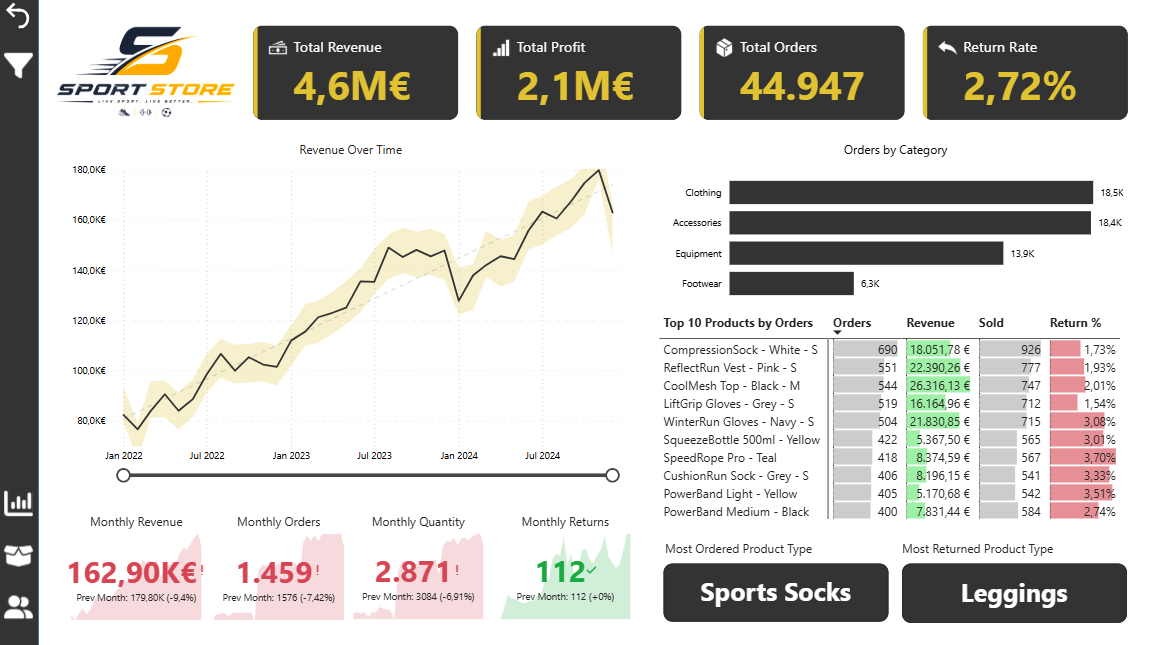

What the dashboard file says about the page in this screenshot:
{"tool":"powerbi","page":{"name":"Overview","canvas":[1280,720],"ordinal":0},"visuals":[{"type":"shape","box":[0,0,44.3,720],"z":0},{"type":"image","box":[43.6,7.8,238.2,144.8],"z":1000},{"type":"lineChart","title":"Revenue Over Time","fields":{"Y":["DAX Measures.Total Revenue"],"Category":["Dim_Calendar.Start of Month"]},"box":[75.7,158.6,631.4,382.9],"z":2000},{"type":"textbox","box":[998,596.3,227.5,32.5],"z":3000},{"type":"textbox","box":[734.3,596.3,227.5,32.5],"z":4000},{"type":"cardVisual","fields":{"Data":["DAX Measures.Total Revenue","DAX Measures.Total Profit","DAX Measures.Total Orders","DAX Measures.Return Rate"]},"box":[264.3,12.9,1007.1,140],"z":5000},{"type":"barChart","title":"Orders by Category","fields":{"Category":["Dim_Product_Category.CategoryName"],"Y":["DAX Measures.Total Orders"]},"box":[737.6,159,515.8,191.1],"z":6000},{"type":"pivotTable","fields":{"Values":["DAX Measures.Total Orders","DAX Measures.Total Revenue","DAX Measures.Quantity Sold","DAX Measures.Return Rate"],"Rows":["Dim_Product.ProductName"]},"box":[728.6,345.7,532.9,252.9],"z":7000},{"type":"kpi","title":"Monthly Revenue","fields":{"Goal":["DAX Measures.Previous Month Revenue"],"Indicator":["DAX Measures.Total Revenue"],"TrendLine":["Dim_Calendar.Start of Month"]},"box":[75.7,571.9,155,124.3],"z":8000},{"type":"kpi","title":"Monthly Orders","fields":{"Goal":["DAX Measures.Previous Month Orders"],"Indicator":["DAX Measures.Total Orders"],"TrendLine":["Dim_Calendar.Start of Month"]},"box":[233.4,571.9,155,124.3],"z":9000},{"type":"kpi","title":"Monthly Quantity","fields":{"Goal":["DAX Measures.Previous Month Quantity"],"Indicator":["DAX Measures.Quantity Sold"],"TrendLine":["Dim_Calendar.Start of Month"]},"box":[388.3,571.9,155,123.8],"z":10000},{"type":"kpi","title":"Monthly Returns","fields":{"Goal":["DAX Measures.Previous Month Returns"],"Indicator":["DAX Measures.Total Returns"],"TrendLine":["Dim_Calendar.Start of Month"]},"box":[552,571.9,155,123.8],"z":11000},{"type":"card","fields":{"Values":["Min(Dim_Product_Subcategory.SubcategoryName)"]},"box":[738,627.5,250,65],"z":12000},{"type":"card","fields":{"Values":["Min(Dim_Product_Subcategory.SubcategoryName)"]},"box":[1003.4,627.5,250,65.7],"z":13000},{"type":"actionButton","box":[1.4,0,44.3,38.6],"z":14000},{"type":"actionButton","box":[1.4,541.4,45.7,40],"z":14500},{"type":"actionButton","box":[1.4,600,44.3,40],"z":14750},{"type":"actionButton","box":[2,55,44.3,40],"z":15000},{"type":"actionButton","box":[1.4,657.1,45.7,40],"z":15500}]}

Visuals, with their boxes on the page's 1280x720 design canvas (x1, y1, x2, y2). These are canvas units, not pixel positions in the 1150x645 screenshot, which may show the page scaled, cropped or inside an application window:
shape: rect(0, 0, 44, 720)
image: rect(44, 8, 282, 153)
"Revenue Over Time" lineChart: rect(76, 159, 707, 542)
textbox: rect(998, 596, 1226, 629)
textbox: rect(734, 596, 962, 629)
cardVisual - DAX Measures.Total Revenue x DAX Measures.Total Profit: rect(264, 13, 1271, 153)
"Orders by Category" barChart: rect(738, 159, 1253, 350)
pivotTable - DAX Measures.Total Orders x DAX Measures.Total Revenue: rect(729, 346, 1262, 599)
"Monthly Revenue" kpi: rect(76, 572, 231, 696)
"Monthly Orders" kpi: rect(233, 572, 388, 696)
"Monthly Quantity" kpi: rect(388, 572, 543, 696)
"Monthly Returns" kpi: rect(552, 572, 707, 696)
card - Min(Dim_Product_Subcategory.SubcategoryName): rect(738, 628, 988, 692)
card - Min(Dim_Product_Subcategory.SubcategoryName): rect(1003, 628, 1253, 693)
actionButton: rect(1, 0, 46, 39)
actionButton: rect(1, 541, 47, 581)
actionButton: rect(1, 600, 46, 640)
actionButton: rect(2, 55, 46, 95)
actionButton: rect(1, 657, 47, 697)
